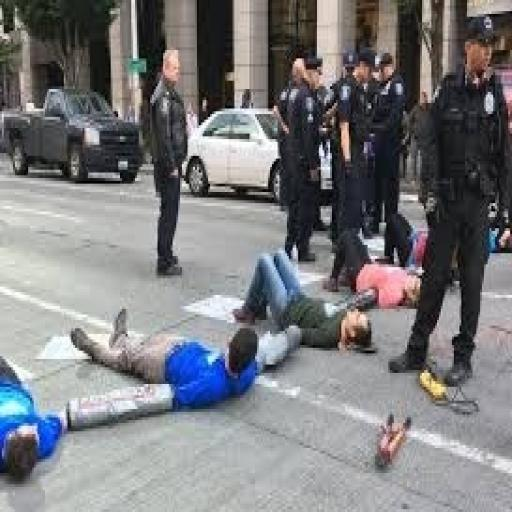sleeping: (231, 245, 375, 353)
